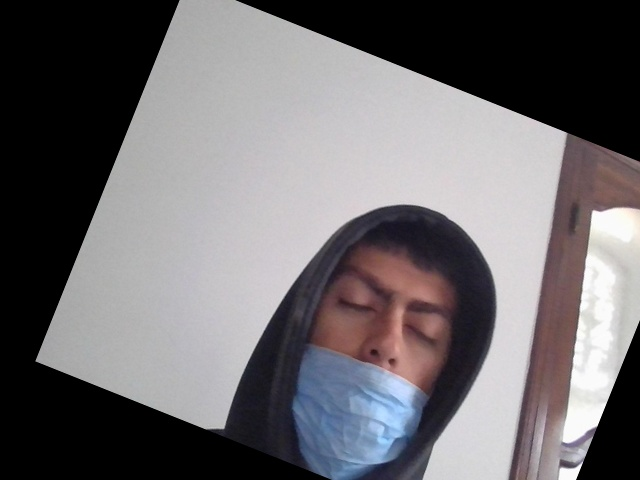mask_weared_incorrect: (292, 206, 464, 480)
